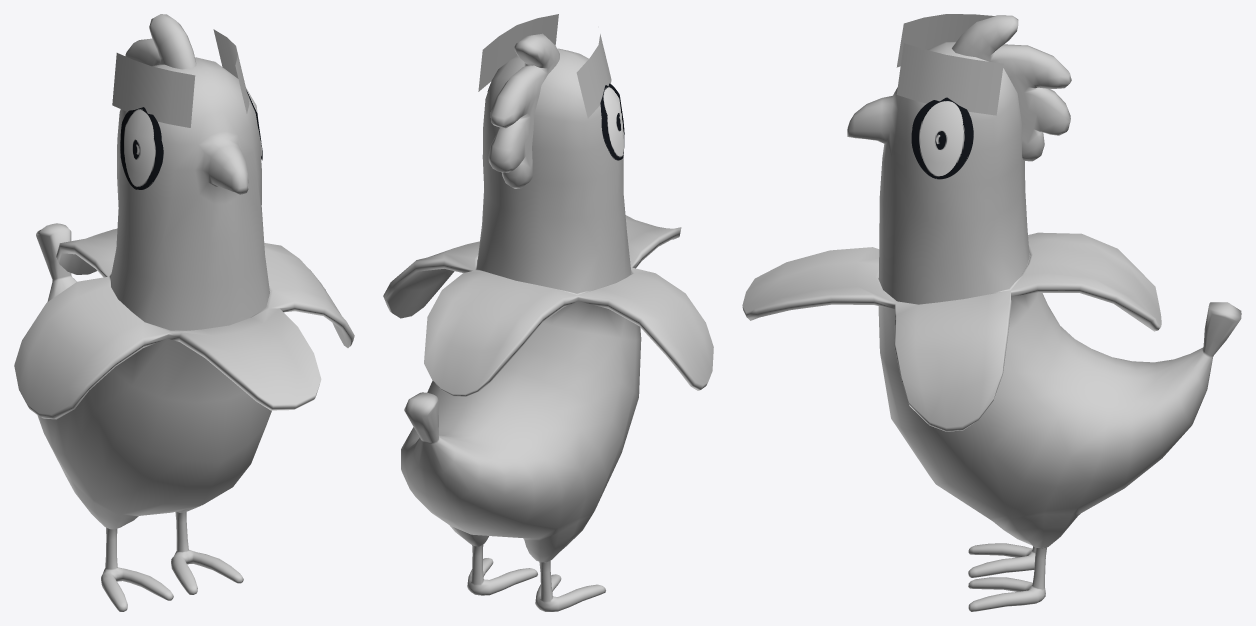
Rendered from MESH_BananaChicken.fbx.
The picture shows the model from 3 angles, left to right: view 1: azimuth 30°, elevation 25°; view 2: azimuth 150°, elevation 25°; view 3: azimuth 270°, elevation 25°; orthographic projection. The views are drawn at different scales.
Parts seen in each view (by area): view 1: Mesh_BananaChickenBody, Mesh_BananaChickenEyebrows, Mesh_BananaChickenEyes, Mesh_BananaChickenCrown; view 2: Mesh_BananaChickenBody, Mesh_BananaChickenCrown, Mesh_BananaChickenEyebrows, Mesh_BananaChickenEyes; view 3: Mesh_BananaChickenBody, Mesh_BananaChickenEyebrows, Mesh_BananaChickenCrown, Mesh_BananaChickenEyes.
Part boxes in pixels (x1,y1,x2,y2): Mesh_BananaChickenBody: (14, 57, 354, 611); Mesh_BananaChickenEyebrows: (112, 29, 249, 127); Mesh_BananaChickenEyes: (120, 88, 262, 189); Mesh_BananaChickenCrown: (125, 14, 196, 69); Mesh_BananaChickenBody: (383, 48, 713, 611); Mesh_BananaChickenCrown: (488, 33, 559, 188); Mesh_BananaChickenEyebrows: (478, 14, 611, 118); Mesh_BananaChickenEyes: (487, 83, 624, 160); Mesh_BananaChickenBody: (742, 41, 1241, 611); Mesh_BananaChickenEyebrows: (896, 14, 1003, 115); Mesh_BananaChickenCrown: (952, 15, 1071, 161); Mesh_BananaChickenEyes: (911, 97, 973, 179).
Size of the model in its own units: 9.41 by 16.13 by 12.87.
